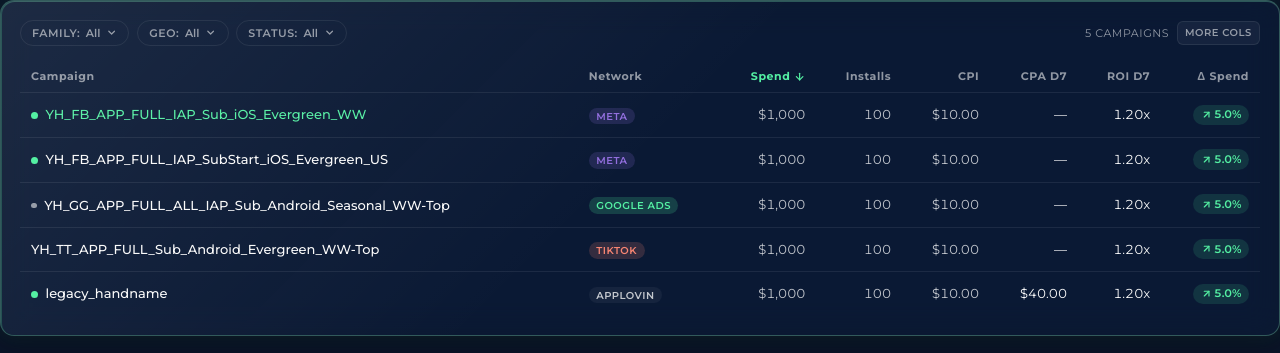
Test case: CampaignsTable - WS2 enrichment + chip filters › More toggle reveals Sub Start D7 / Sub D7 columns
Click the button with test id "campaigns-show-more".
click(1218, 33)  # box [1176,20,1260,45]
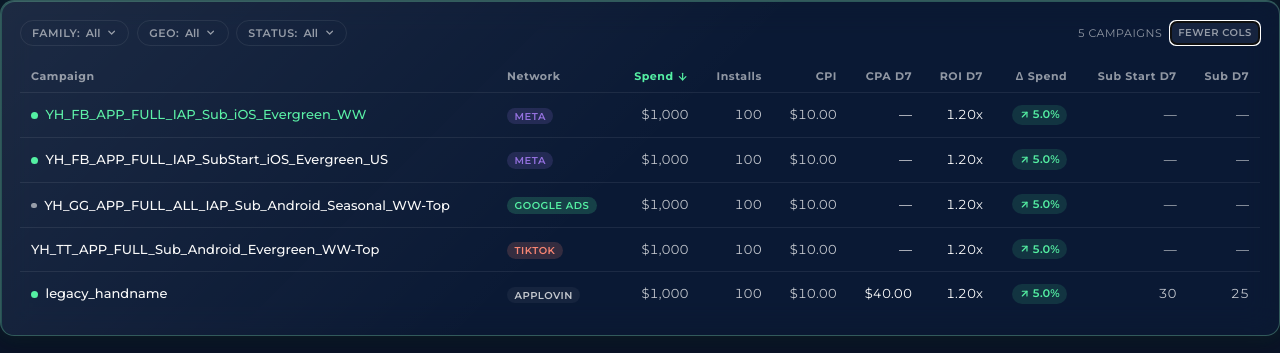
Expected: the button with test id "sort-sub_start_d7" is shown, [1098,68,1177,85]
Expected: the button with test id "sort-sub_d7" is shown, [1204,68,1249,85]
